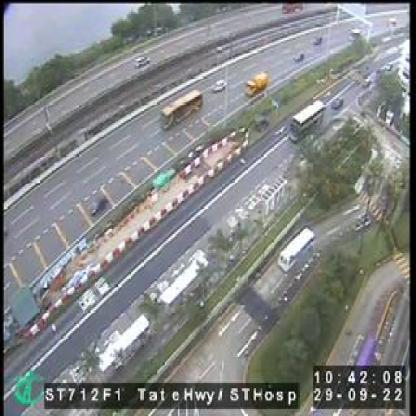Bus: (156, 87, 202, 130), (285, 97, 325, 142), (277, 225, 315, 269)
Car: (85, 191, 109, 218), (209, 76, 228, 92), (134, 50, 149, 68), (329, 94, 343, 109), (291, 48, 304, 62), (311, 34, 321, 46)
Truck: (244, 69, 270, 99)
